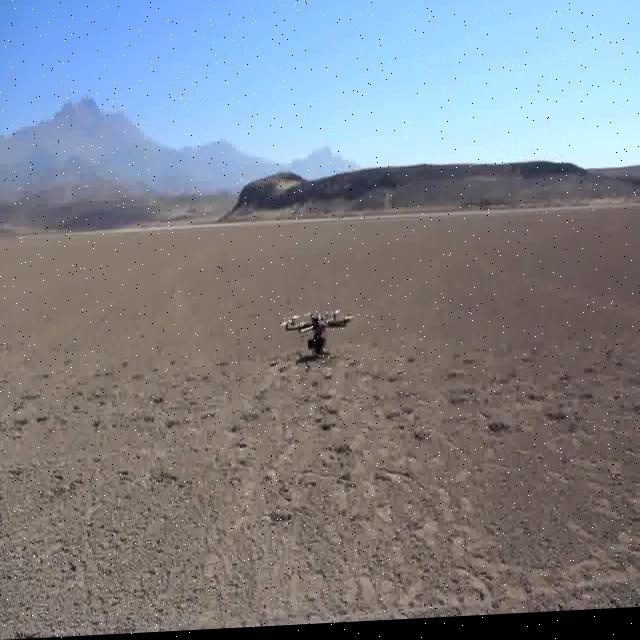drone: (265, 263, 367, 405)
